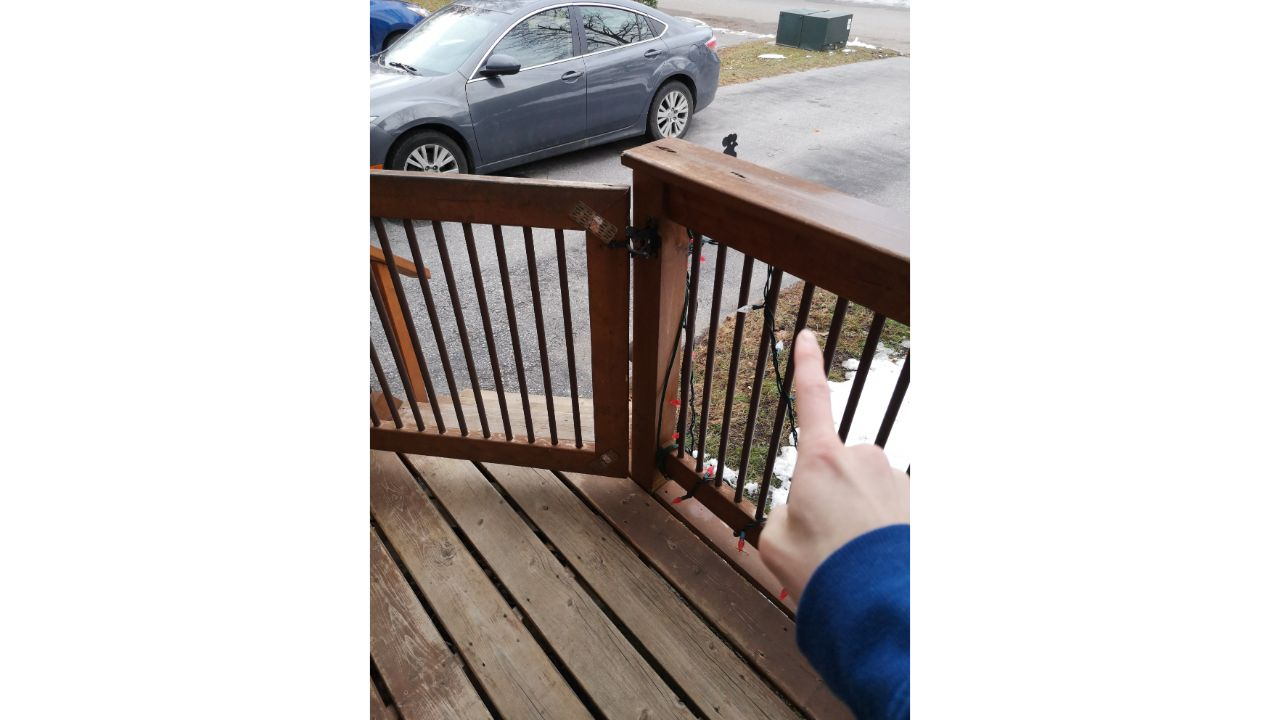car: (367, 2, 725, 147)
finger: (773, 323, 908, 616)
